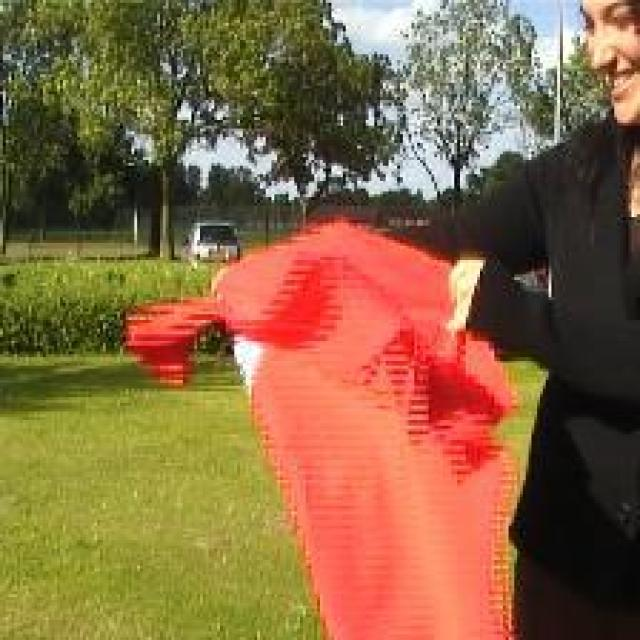other: (148, 235, 535, 632)
